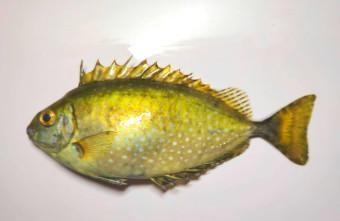fish: (27, 58, 315, 191)
